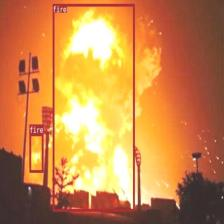fire: (53, 4, 134, 210), (29, 132, 43, 172)
